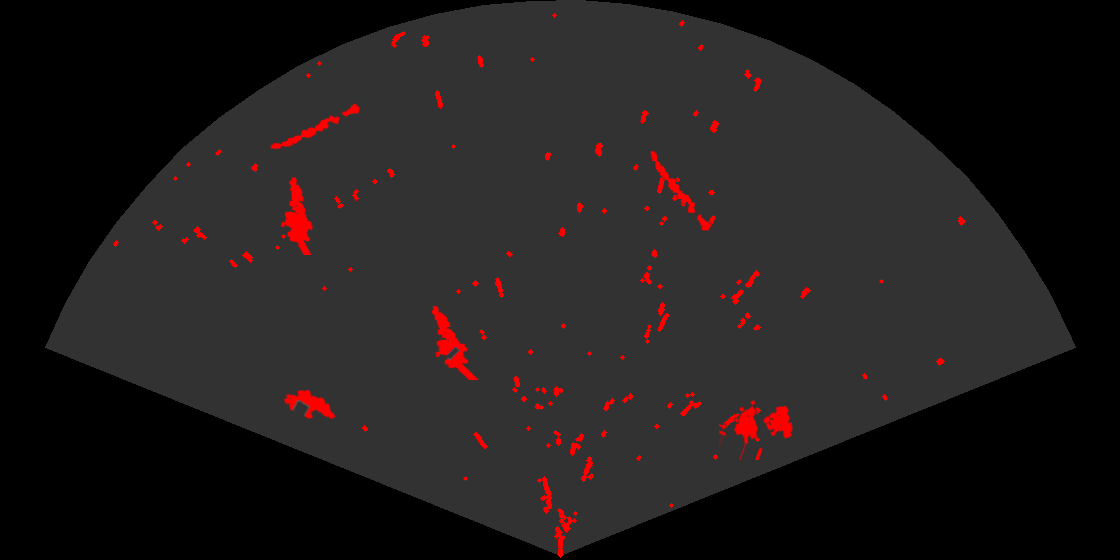AUV: (282, 388, 337, 421)
cage: (719, 398, 795, 460)
chain: (649, 149, 713, 232), (269, 102, 362, 151)
frogman: (430, 304, 480, 380), (279, 176, 314, 255)
